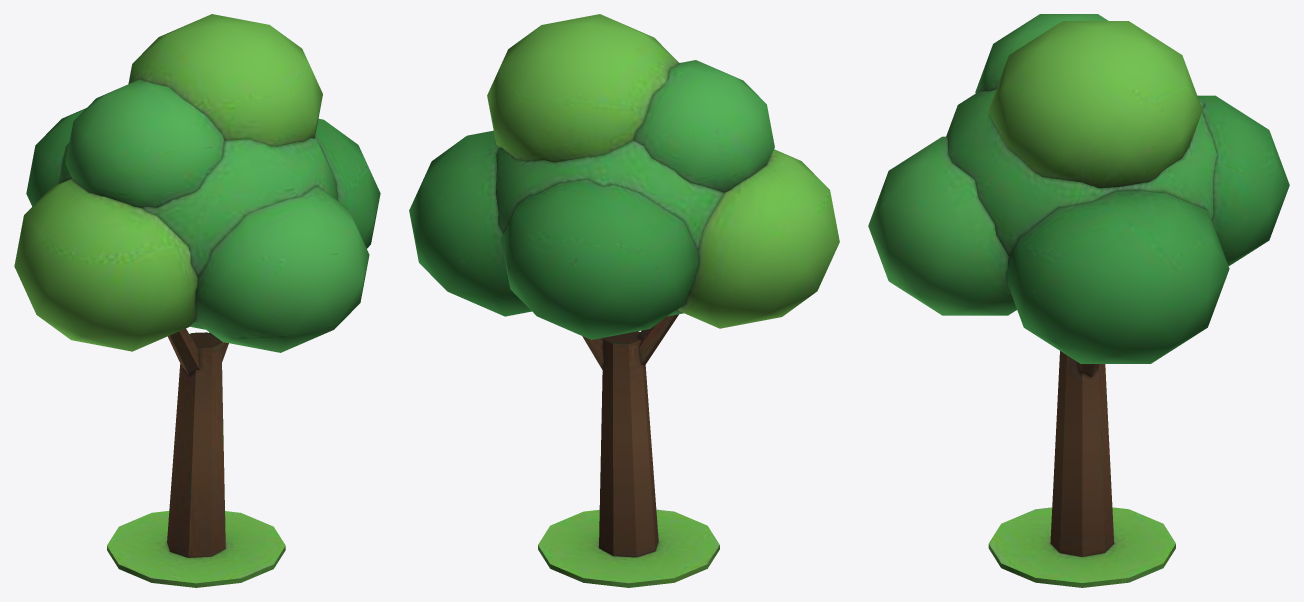
Rendered from roble.glb.
3 views of the same model, side by side, from view 1: azimuth 30°, elevation 25°; view 2: azimuth 150°, elevation 25°; view 3: azimuth 270°, elevation 25° (orthographic). The views are drawn at different scales.
Parts seen in each view (by area): view 1: roble; view 2: roble; view 3: roble.
Part boxes in pixels (<box>): roble: <box>14,14,380,587</box>; roble: <box>409,14,839,587</box>; roble: <box>868,14,1289,587</box>.
Bounding box in the file's own units: 3.27 × 4.44 × 3.15.
Materials: 1 (1 with a texture image).
